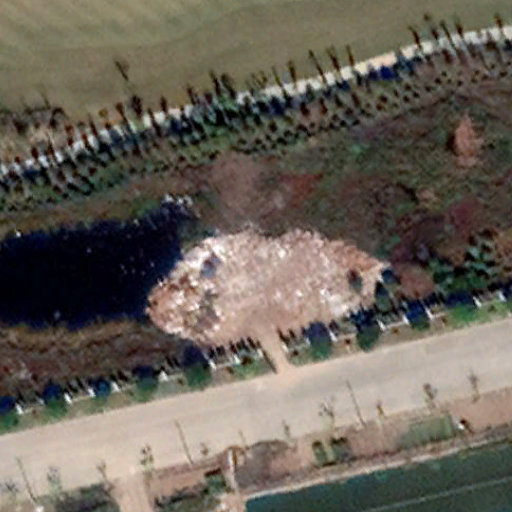msw: (147, 227, 379, 342)
